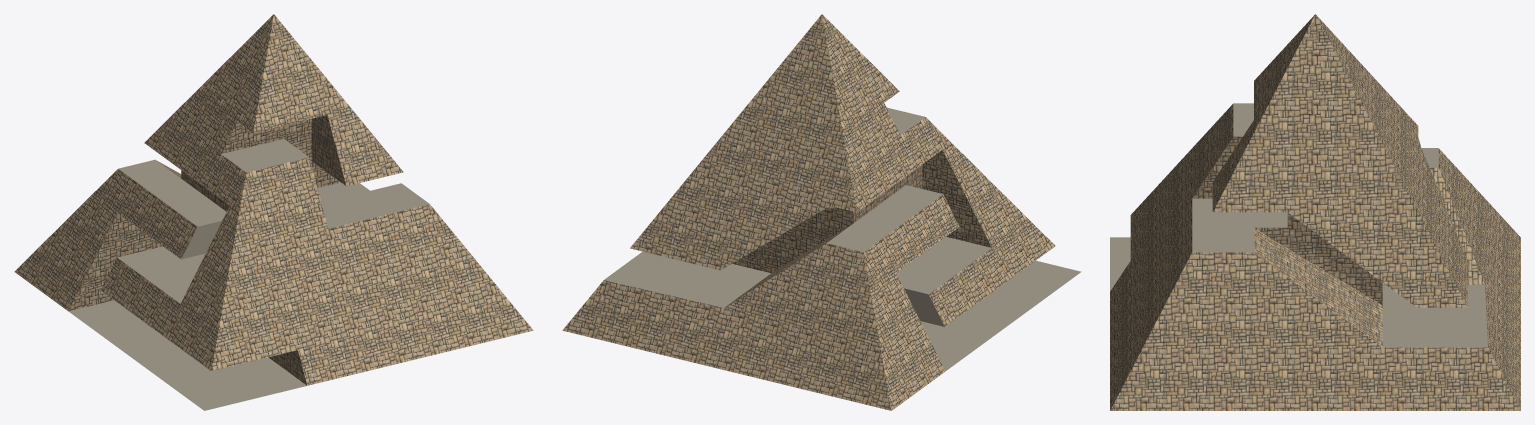
Rendered from Piramide_basica_conParedes.fbx.
3 renders of one model, left to right at view 1: azimuth 30°, elevation 25°; view 2: azimuth 150°, elevation 25°; view 3: azimuth 270°, elevation 25°, orthographic. The views are drawn at different scales.
Visible parts, largest first — view 1: Cube.004; view 2: Cube.004; view 3: Cube.004.
Boxes of the visible parts, left/top/right/bottom form: Cube.004: left=14, top=14, right=533, bottom=410; Cube.004: left=562, top=14, right=1081, bottom=410; Cube.004: left=1110, top=14, right=1520, bottom=410.
Size of the model in its own units: 240 by 200 by 240.
